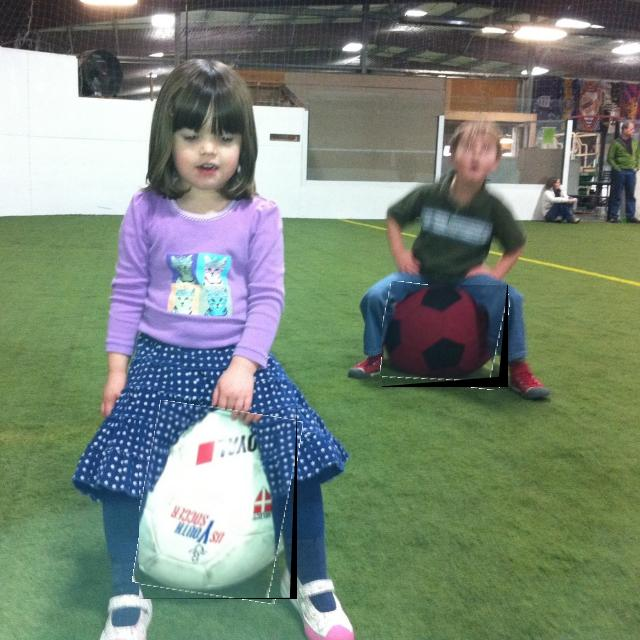Football: (139, 405, 297, 599), (382, 285, 508, 387)
